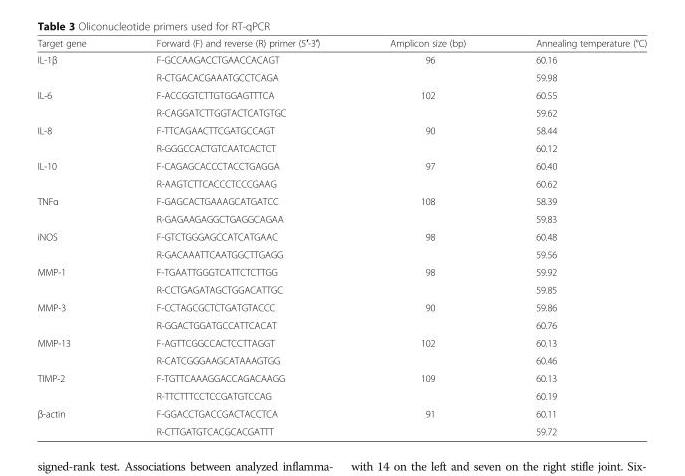table: (36, 37, 646, 436)
table column: (120, 37, 354, 436), (354, 37, 500, 436), (500, 37, 646, 436), (36, 37, 120, 436)
table column header: (36, 37, 646, 50)
table row: (36, 403, 646, 422), (36, 50, 646, 68), (36, 85, 646, 103), (36, 103, 646, 121), (36, 121, 646, 139), (36, 156, 646, 174), (36, 191, 646, 209), (36, 209, 646, 227), (36, 227, 646, 245), (36, 262, 646, 280), (36, 280, 646, 298), (36, 315, 646, 333), (36, 333, 646, 351), (36, 351, 646, 369), (36, 68, 646, 85), (36, 139, 646, 156), (36, 174, 646, 191), (36, 245, 646, 262), (36, 298, 646, 315), (36, 369, 646, 386), (36, 386, 646, 403), (36, 422, 646, 436), (36, 37, 646, 50)
table spanning cell: (354, 85, 500, 121), (354, 191, 500, 227), (354, 262, 500, 298), (354, 333, 500, 369), (354, 50, 500, 85), (354, 121, 500, 156), (354, 156, 500, 191), (354, 227, 500, 262), (354, 298, 500, 333), (354, 369, 500, 403), (354, 403, 500, 436), (36, 85, 120, 121), (36, 191, 120, 227), (36, 262, 120, 298), (36, 333, 120, 369), (36, 50, 120, 85), (36, 121, 120, 156), (36, 156, 120, 191), (36, 227, 120, 262), (36, 298, 120, 333), (36, 369, 120, 403), (36, 403, 120, 436)
